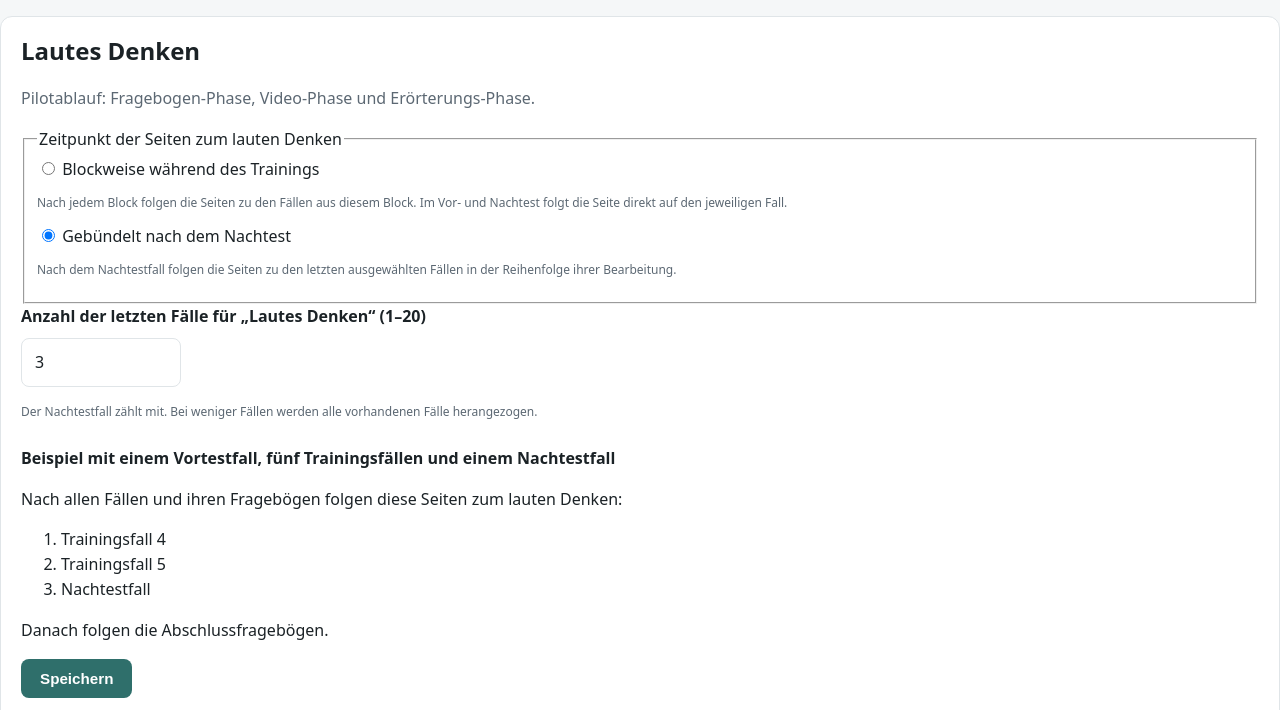
Scenario: invalid counts cannot be saved and a failed save can be retried
This screenshot has width=1280, height=710.
Replace the text in the number field with "0": (101, 363) [21,338,181,387]
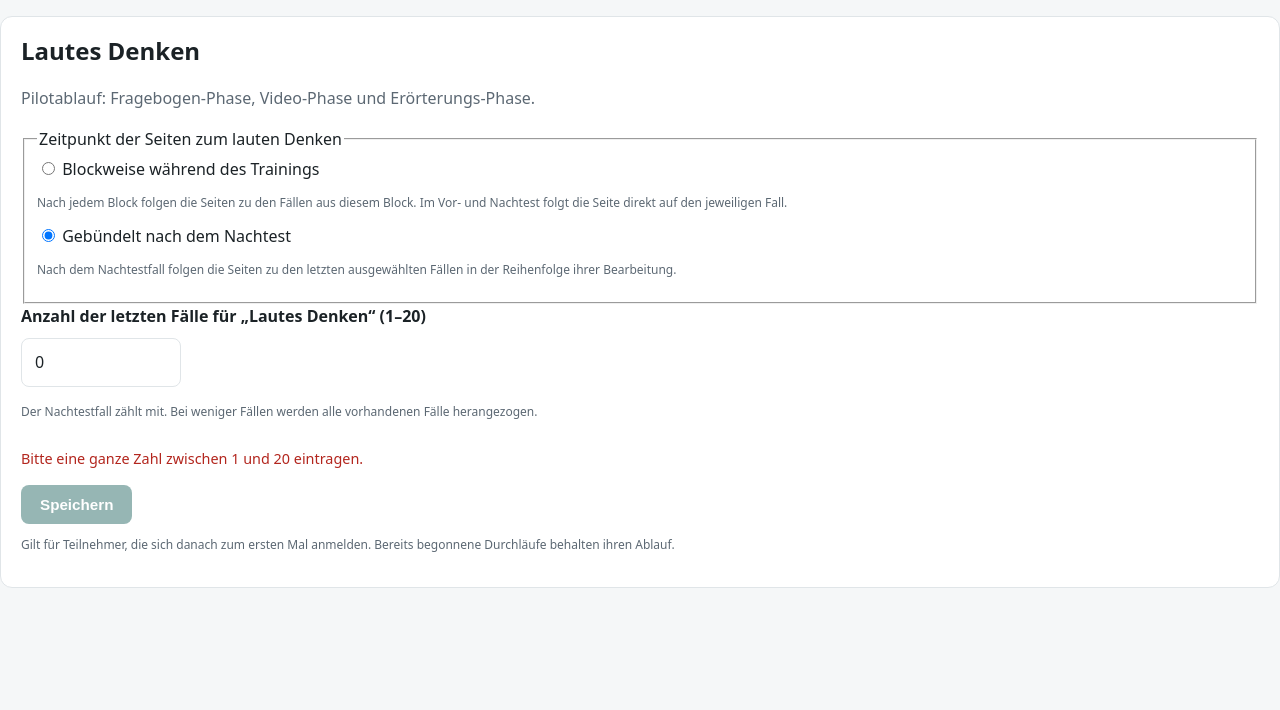
Result: the button "Speichern" is disabled at [21,485,132,524]
Replace the text in the number field with "3": (101, 363) [21,338,181,387]
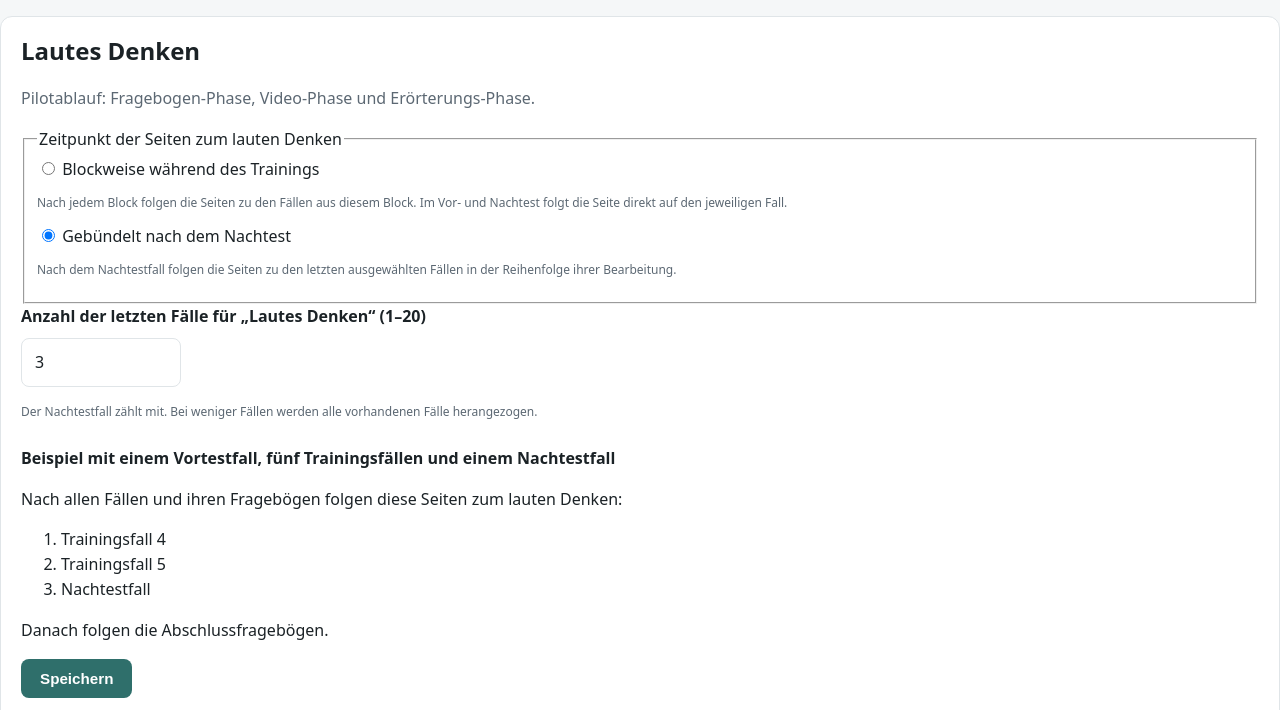
Click the button "Speichern": (77, 678) [21,659,132,698]
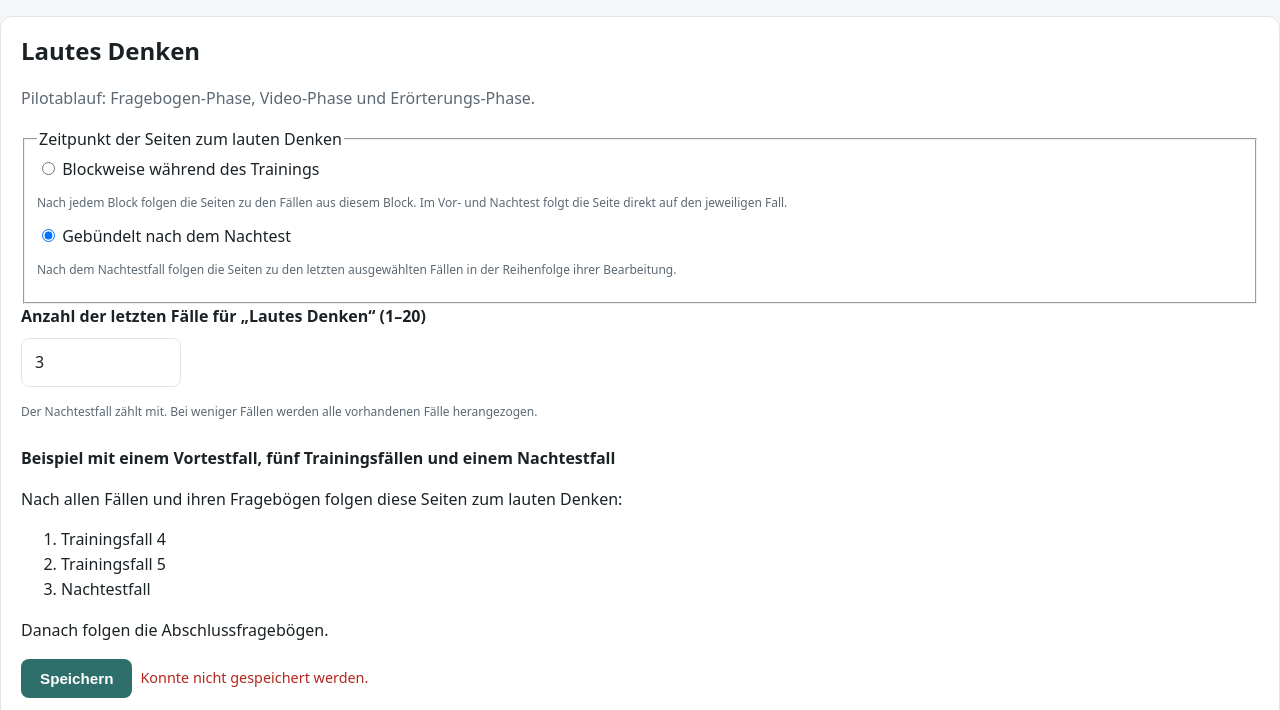
Result: the message shows "Konnte nicht gespeichert" at [140,668,368,687]
Click the button "Speichern": (77, 678) [21,659,132,698]
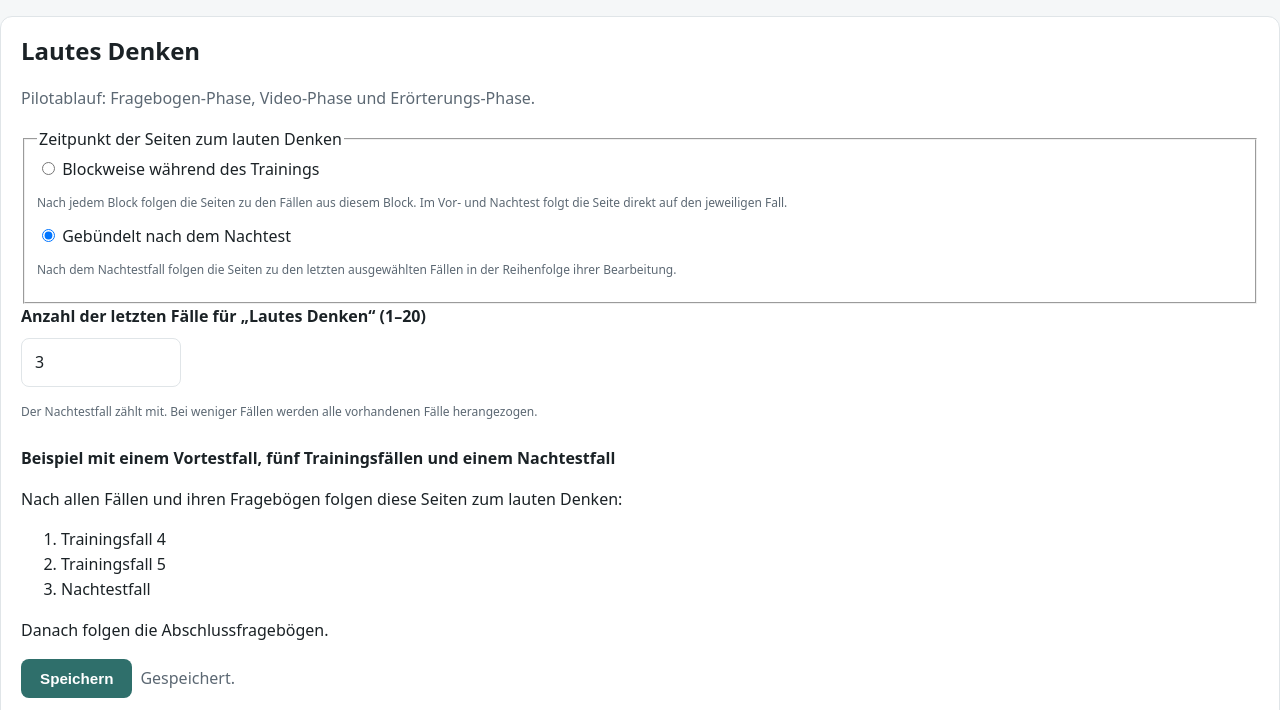
Result: the text "Gespeichert." is shown at [140,666,235,690]
